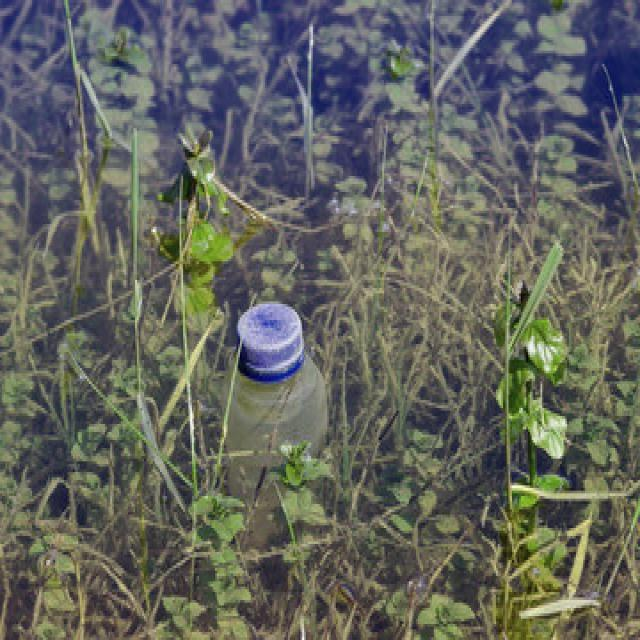Plastic: (219, 297, 329, 473)
